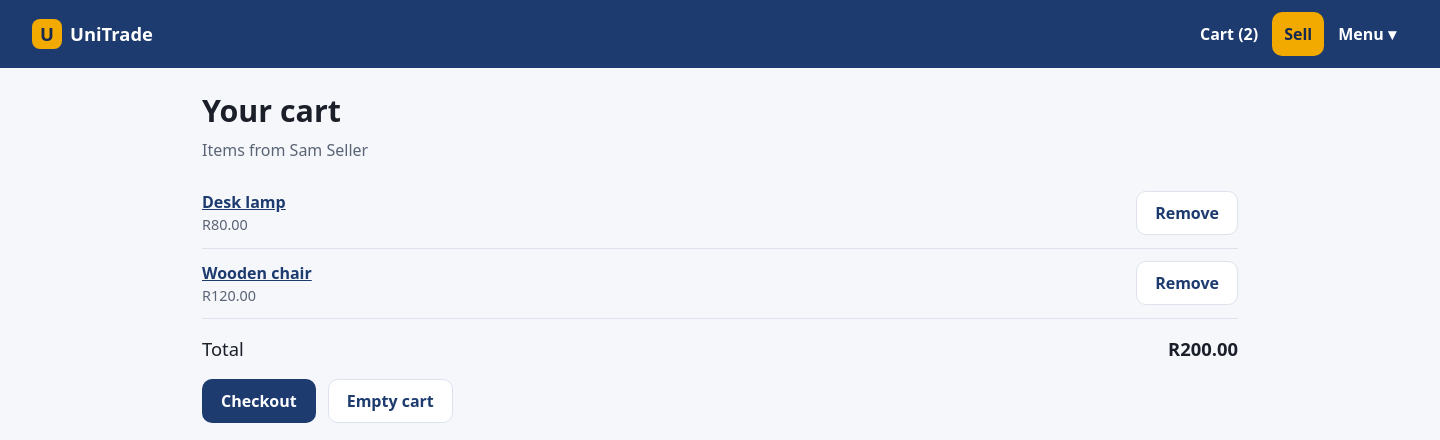
Test: FR4 - cart, checkout and orders › fr4_04 the cart survives a reload (localStorage), items can be removed, and an empty cart says so
Expected: the link "Wooden chair" is shown, [202,262,312,284]
Expected: the text "R200.00" is shown, [1168,335,1238,363]
Click the button with aria-label "remove desk lamp".
click(1187, 213)  # box [1136,191,1238,235]
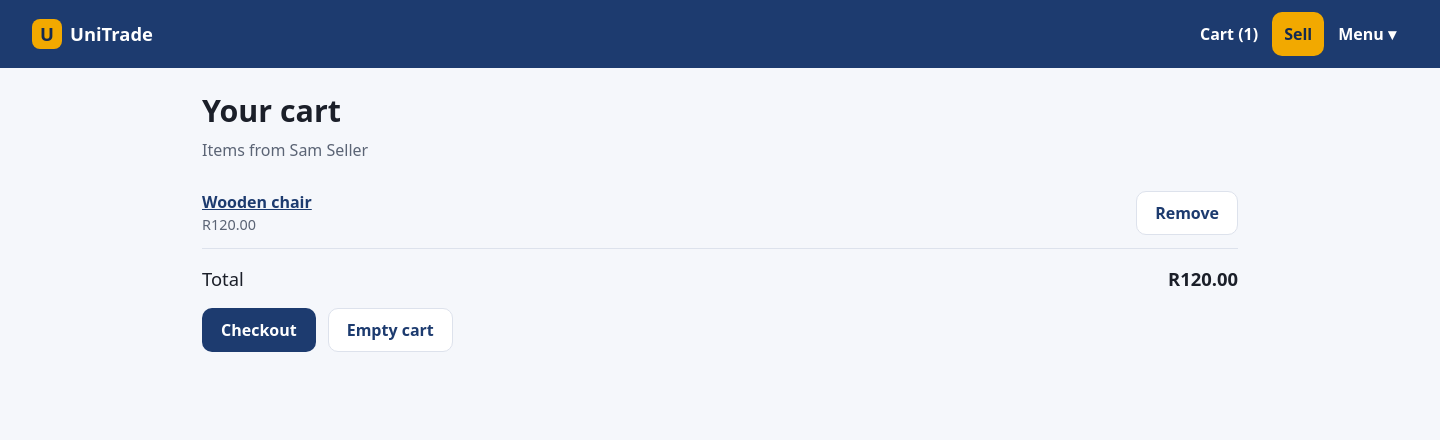
Now the link "Desk lamp" is gone
Now the text "R120.00" in the row of "Total" is shown, box [1168,266,1238,291]
Click the button with aria-label "remove wooden chair".
click(1187, 213)  # box [1136,191,1238,235]
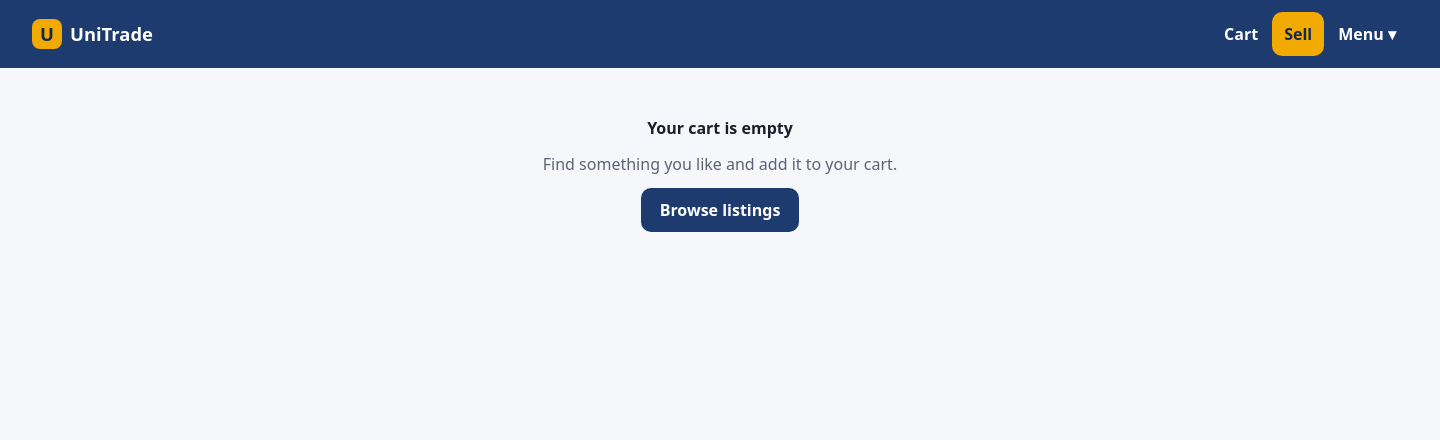
Now the text "Your cart is empty" is shown, box [647,116,793,140]
